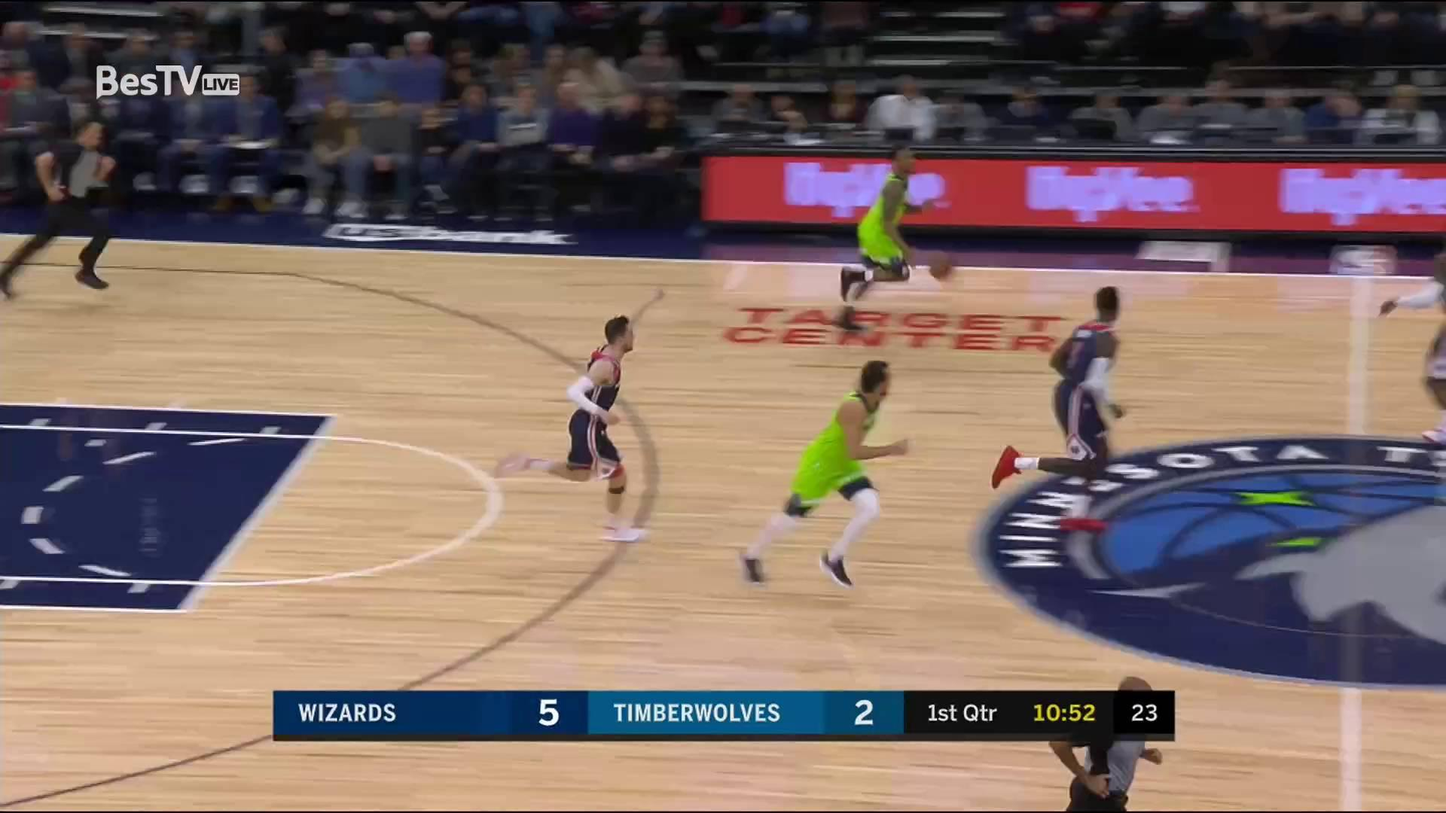basketball: (931, 248, 957, 283)
